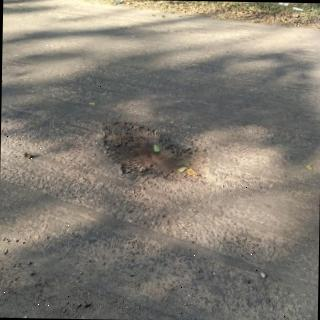pothole: (101, 122, 218, 189)
